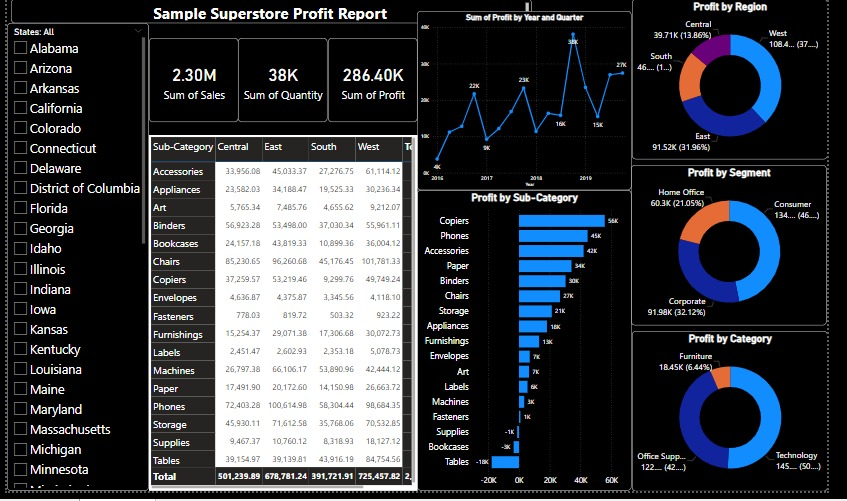

The dashboard page shown, as its layout file describes it:
{"tool":"powerbi","page":{"name":"Page 1","canvas":[2000,1200],"ordinal":0},"visuals":[{"type":"textbox","box":[9.4,0,1269.9,58.6],"z":0},{"type":"donutChart","title":"Profit by Category","fields":{"Category":["Orders.Category"],"Y":["Sum(Orders.Profit)"]},"box":[1523.6,809,477.3,391],"z":1000},{"type":"donutChart","title":"Profit by Segment","fields":{"Category":["Orders.Segment"],"Y":["Sum(Orders.Profit)"]},"box":[1522.7,404.5,477.3,391],"z":2000},{"type":"donutChart","title":"Profit by Region","fields":{"Category":["Orders.Region"],"Y":["Sum(Orders.Profit)"]},"box":[1523.6,0,477.3,391],"z":3000},{"type":"clusteredBarChart","title":"Profit by Sub-Category","fields":{"Category":["Orders.Sub-Category"],"Y":["Sum(Orders.Profit)"]},"box":[1000.4,466.5,523.1,733.5],"z":4000},{"type":"lineChart","fields":{"Category":["Orders.Order Date.Variation.Date Hierarchy.Year","Orders.Order Date.Variation.Date Hierarchy.Quarter","Orders.Order Date.Variation.Date Hierarchy.Month","Orders.Order Date.Variation.Date Hierarchy.Day"],"Y":["Sum(Orders.Profit)"]},"box":[1000.4,29.7,523.1,436.9],"z":5000},{"type":"slicer","fields":{"Values":["Orders.State"]},"box":[0,58.5,346.3,1141.5],"z":6000},{"type":"card","fields":{"Values":["Sum(Orders.Sales)"]},"box":[345.2,94.4,218.4,204.9],"z":7000},{"type":"card","fields":{"Values":["Sum(Orders.Quantity)"]},"box":[563.6,94.4,218.4,204.9],"z":8000},{"type":"card","fields":{"Values":["Sum(Orders.Profit)"]},"box":[782,94.4,218.4,204.9],"z":9000},{"type":"pivotTable","fields":{"Rows":["Orders.Sub-Category"],"Columns":["Orders.Region"],"Values":["Sum(Orders.Sales)"]},"box":[345.2,331.7,655.3,868.3],"z":10000}]}

Visuals, with their boxes in screenshot pixels (x1, y1, x2, y2), scaled from the page's 2000x1200 canvas onto the 847x501 screenshot:
textbox: [x1=4, y1=0, x2=542, y2=24]
"Profit by Category" donutChart: [x1=645, y1=338, x2=846, y2=500]
"Profit by Segment" donutChart: [x1=645, y1=169, x2=846, y2=332]
"Profit by Region" donutChart: [x1=645, y1=0, x2=846, y2=163]
"Profit by Sub-Category" clusteredBarChart: [x1=424, y1=195, x2=645, y2=500]
lineChart - Orders.Order Date.Variation.Date Hierarchy.Year x Orders.Order Date.Variation.Date Hierarchy.Quarter: [x1=424, y1=12, x2=645, y2=195]
slicer - Orders.State: [x1=0, y1=24, x2=147, y2=500]
card - Sum(Orders.Sales): [x1=146, y1=39, x2=239, y2=125]
card - Sum(Orders.Quantity): [x1=239, y1=39, x2=331, y2=125]
card - Sum(Orders.Profit): [x1=331, y1=39, x2=424, y2=125]
pivotTable - Orders.Sub-Category x Orders.Region: [x1=146, y1=138, x2=424, y2=500]
